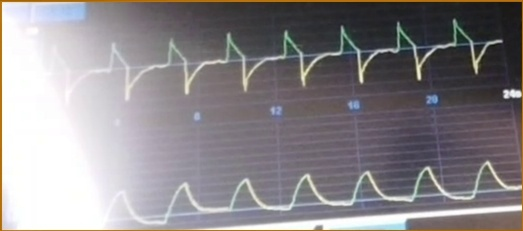Normal Flow: (38, 20, 502, 104)
Normal Volume: (87, 152, 523, 224)
